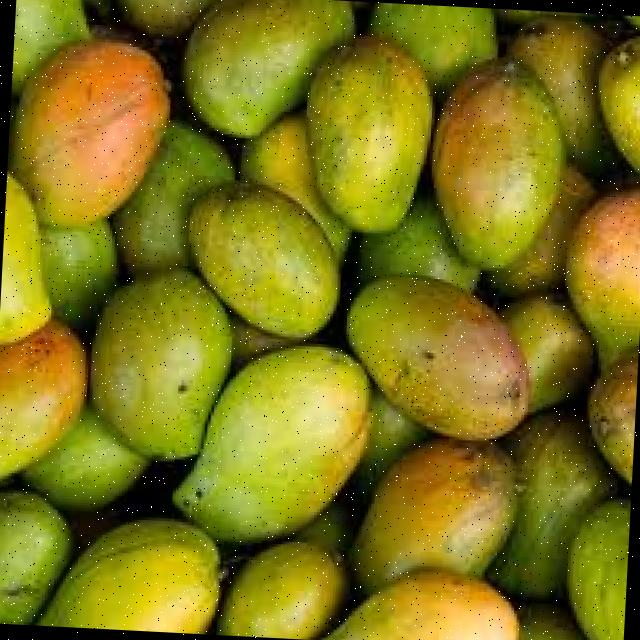mango: (188, 180, 339, 342)
